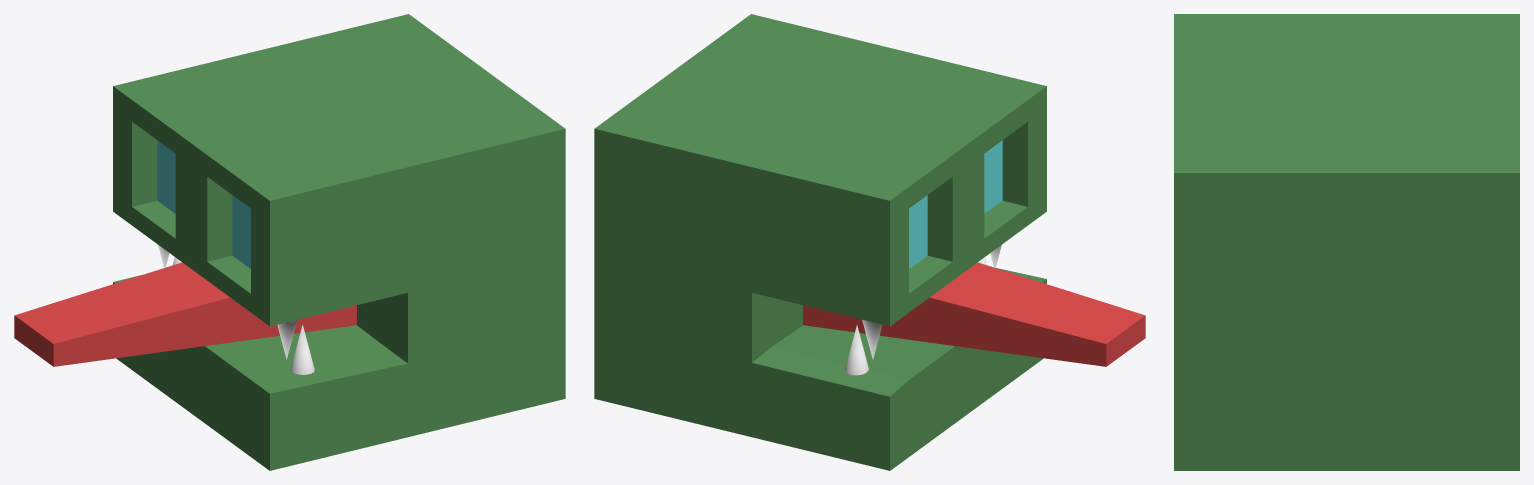
Rendered from Snek Anim.fbx.
3 views of the same model, side by side, from view 1: azimuth 30°, elevation 25°; view 2: azimuth 150°, elevation 25°; view 3: azimuth 270°, elevation 25° (orthographic). The views are drawn at different scales.
Parts seen in each view (by area): view 1: Snek1; view 2: Snek1; view 3: Snek1.
Boxes of the visible parts, <box> form: Snek1: <box>14,14,565,470</box>; Snek1: <box>594,14,1145,470</box>; Snek1: <box>1174,14,1519,470</box>.
Size of the model in its own units: 3.34 by 1.9 by 2.
